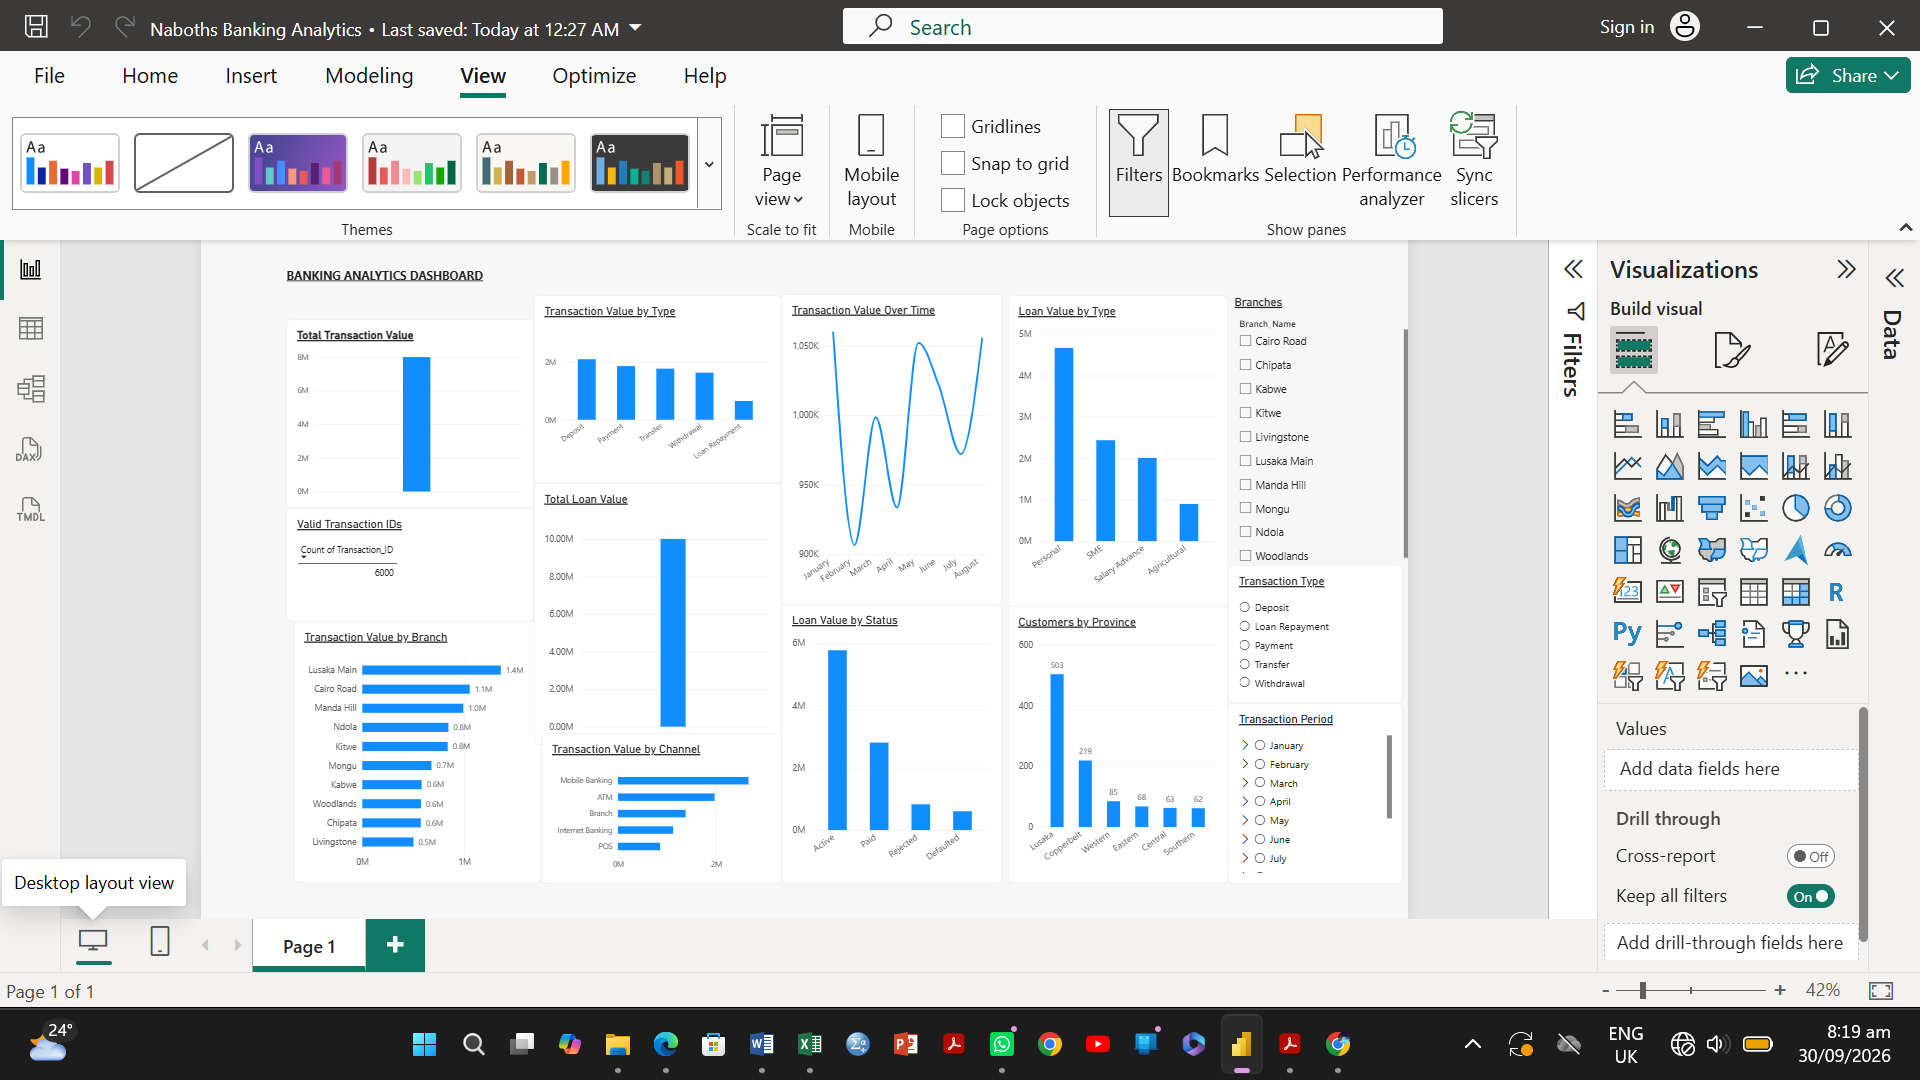

The dashboard page shown, as its layout file describes it:
{"tool":"powerbi","page":{"name":"Page 1","canvas":[1920,1080],"ordinal":0},"visuals":[{"type":"clusteredColumnChart","title":"Total Transaction Value","fields":{"Y":["Sum(Transactions.Amount)"]},"box":[136.4,127.3,393.3,300],"z":0},{"type":"tableEx","title":"Valid Transaction IDs","fields":{"Values":["Transactions.Transaction_ID"]},"box":[136.4,427.3,393.2,179.5],"z":1},{"type":"clusteredBarChart","title":"Transaction Value by Branch","fields":{"Category":["Branches.Branch_Name"],"Y":["Sum(Transactions.Amount)"]},"box":[147.7,606.8,393.2,415.9],"z":2},{"type":"clusteredColumnChart","title":"Total Loan Value","fields":{"Y":["Sum(Loans.Loan_Amount)"]},"box":[529.5,386.4,393.2,415.9],"z":3},{"type":"clusteredColumnChart","title":"Transaction Value by Type","fields":{"Category":["Transactions.Transaction_Type"],"Y":["Sum(Transactions.Amount)"]},"box":[529.5,88.6,393,297],"z":4},{"type":"lineChart","title":"Transaction Value Over Time","fields":{"Y":["Sum(Transactions.Amount)"],"Category":["Transactions.Transaction_Date.Variation.Date Hierarchy.Month"]},"box":[922.7,86.4,350,495.5],"z":5},{"type":"clusteredBarChart","title":"Transaction Value by Channel","fields":{"Category":["Transactions.Channel"],"Y":["Sum(Transactions.Amount)"]},"box":[540.9,784.1,381.8,238.6],"z":6},{"type":"clusteredColumnChart","title":"Loan Value by Status","fields":{"Category":["Loans.Loan_Status"],"Y":["Sum(Loans.Loan_Amount)"]},"box":[922.7,579.5,350,443.2],"z":7},{"type":"clusteredColumnChart","title":"Loan Value by Type","fields":{"Category":["Loans.Loan_Type"],"Y":["Sum(Loans.Loan_Amount)"]},"box":[1284.1,88.6,350,495],"z":8},{"type":"clusteredColumnChart","title":"Customers by Province ","fields":{"Category":["Customers.Province"],"Y":["CountNonNull(Customers.Customer_ID)"]},"box":[1284.1,581.8,350,440.9],"z":9},{"type":"textbox","box":[136.4,43.2,345.5,63.6],"z":10},{"type":"slicer","title":"Branches","fields":{"Values":["Branches.Branch_Name"]},"box":[1643.2,88.6,277.3,429.5],"z":11},{"type":"listSlicer","title":"Transaction Type","fields":{"Values":["Transactions.Transaction_Type"]},"box":[1634.1,518.2,277.3,218.2],"z":12},{"type":"listSlicer","title":"Transaction Period","fields":{"Values":["Transactions.Transaction_Date.Variation.Date Hierarchy.Month","Transactions.Transaction_Date.Variation.Date Hierarchy.Day"]},"box":[1634.1,736.4,277.3,286.4],"z":13}]}

Visuals, with their boxes in screenshot pixels (x1, y1, x2, y2):
"Total Transaction Value" clusteredColumnChart: bbox=(29, 85, 432, 392)
"Valid Transaction IDs" tableEx: bbox=(29, 392, 431, 575)
"Transaction Value by Branch" clusteredBarChart: bbox=(41, 575, 443, 1001)
"Total Loan Value" clusteredColumnChart: bbox=(431, 350, 833, 775)
"Transaction Value by Type" clusteredColumnChart: bbox=(431, 46, 833, 349)
"Transaction Value Over Time" lineChart: bbox=(833, 43, 1191, 550)
"Transaction Value by Channel" clusteredBarChart: bbox=(443, 757, 833, 1001)
"Loan Value by Status" clusteredColumnChart: bbox=(833, 547, 1191, 1001)
"Loan Value by Type" clusteredColumnChart: bbox=(1203, 46, 1561, 552)
"Customers by Province " clusteredColumnChart: bbox=(1203, 550, 1561, 1001)
textbox: bbox=(29, 0, 383, 64)
"Branches" slicer: bbox=(1570, 46, 1854, 485)
"Transaction Type" listSlicer: bbox=(1561, 485, 1844, 708)
"Transaction Period" listSlicer: bbox=(1561, 708, 1844, 1001)
